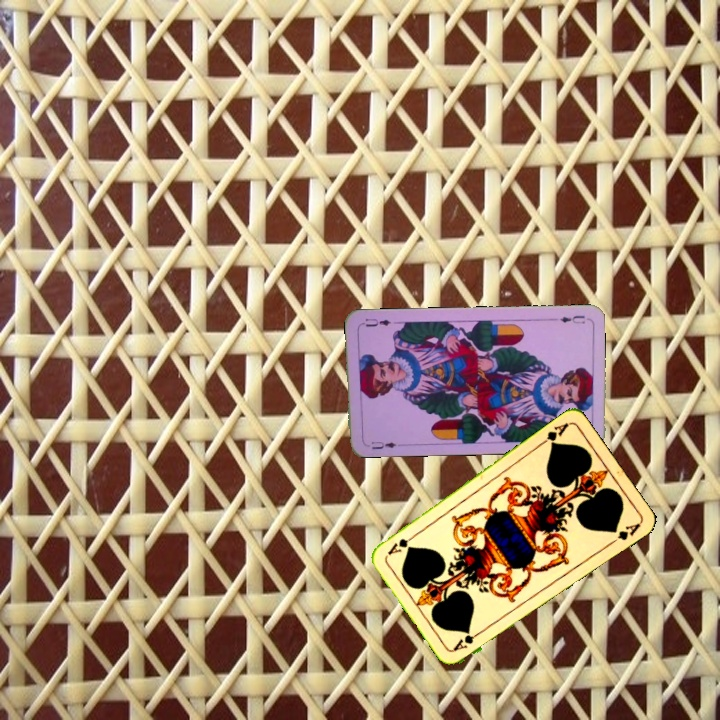EU: (548, 311, 588, 326), (368, 437, 402, 452)
GA: (536, 418, 572, 449), (449, 626, 486, 653)
